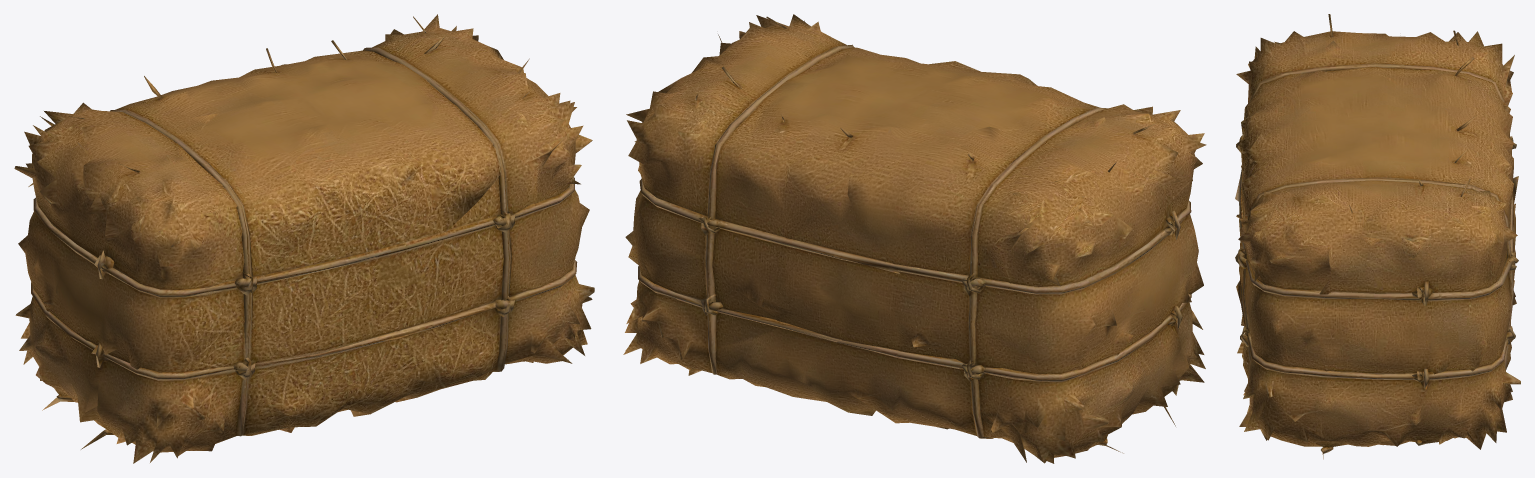
The model's file is Rectangular Hay Bale.glb.
The picture shows the model from 3 angles, left to right: view 1: azimuth 30°, elevation 25°; view 2: azimuth 150°, elevation 25°; view 3: azimuth 270°, elevation 25°; orthographic projection. The views are drawn at different scales.
Parts seen in each view (by area): view 1: pb_node; view 2: pb_node; view 3: pb_node.
Part boxes in pixels (<box>): pb_node: <box>14,14,594,463</box>; pb_node: <box>623,14,1206,463</box>; pb_node: <box>1235,14,1520,459</box>.
Size of the model in its own units: 0.998 by 0.5801 by 0.5684.
Materials: 1 (1 with a texture image).
